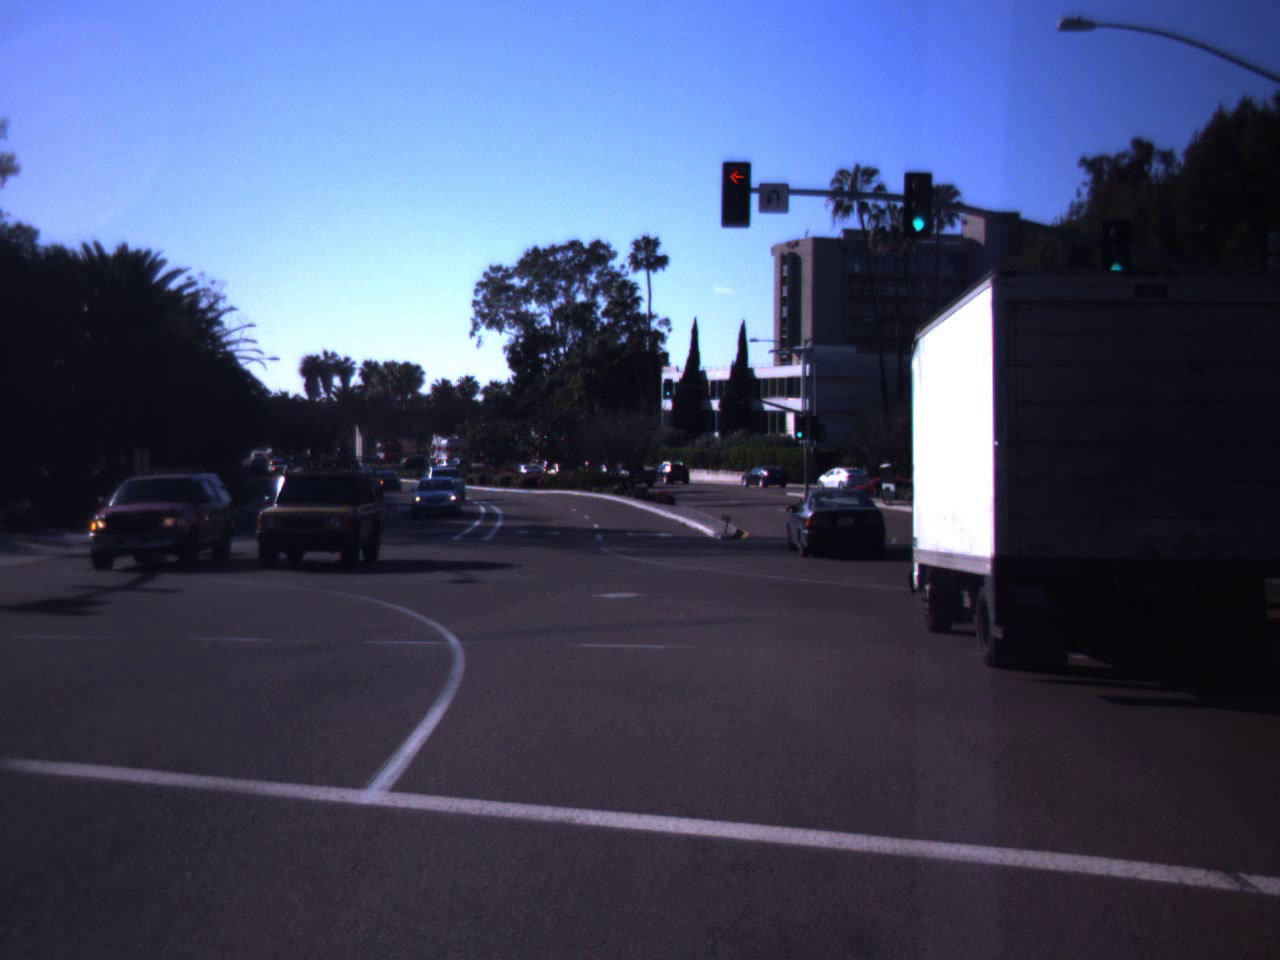go: (905, 185, 932, 235)
stop: (711, 162, 765, 225)
